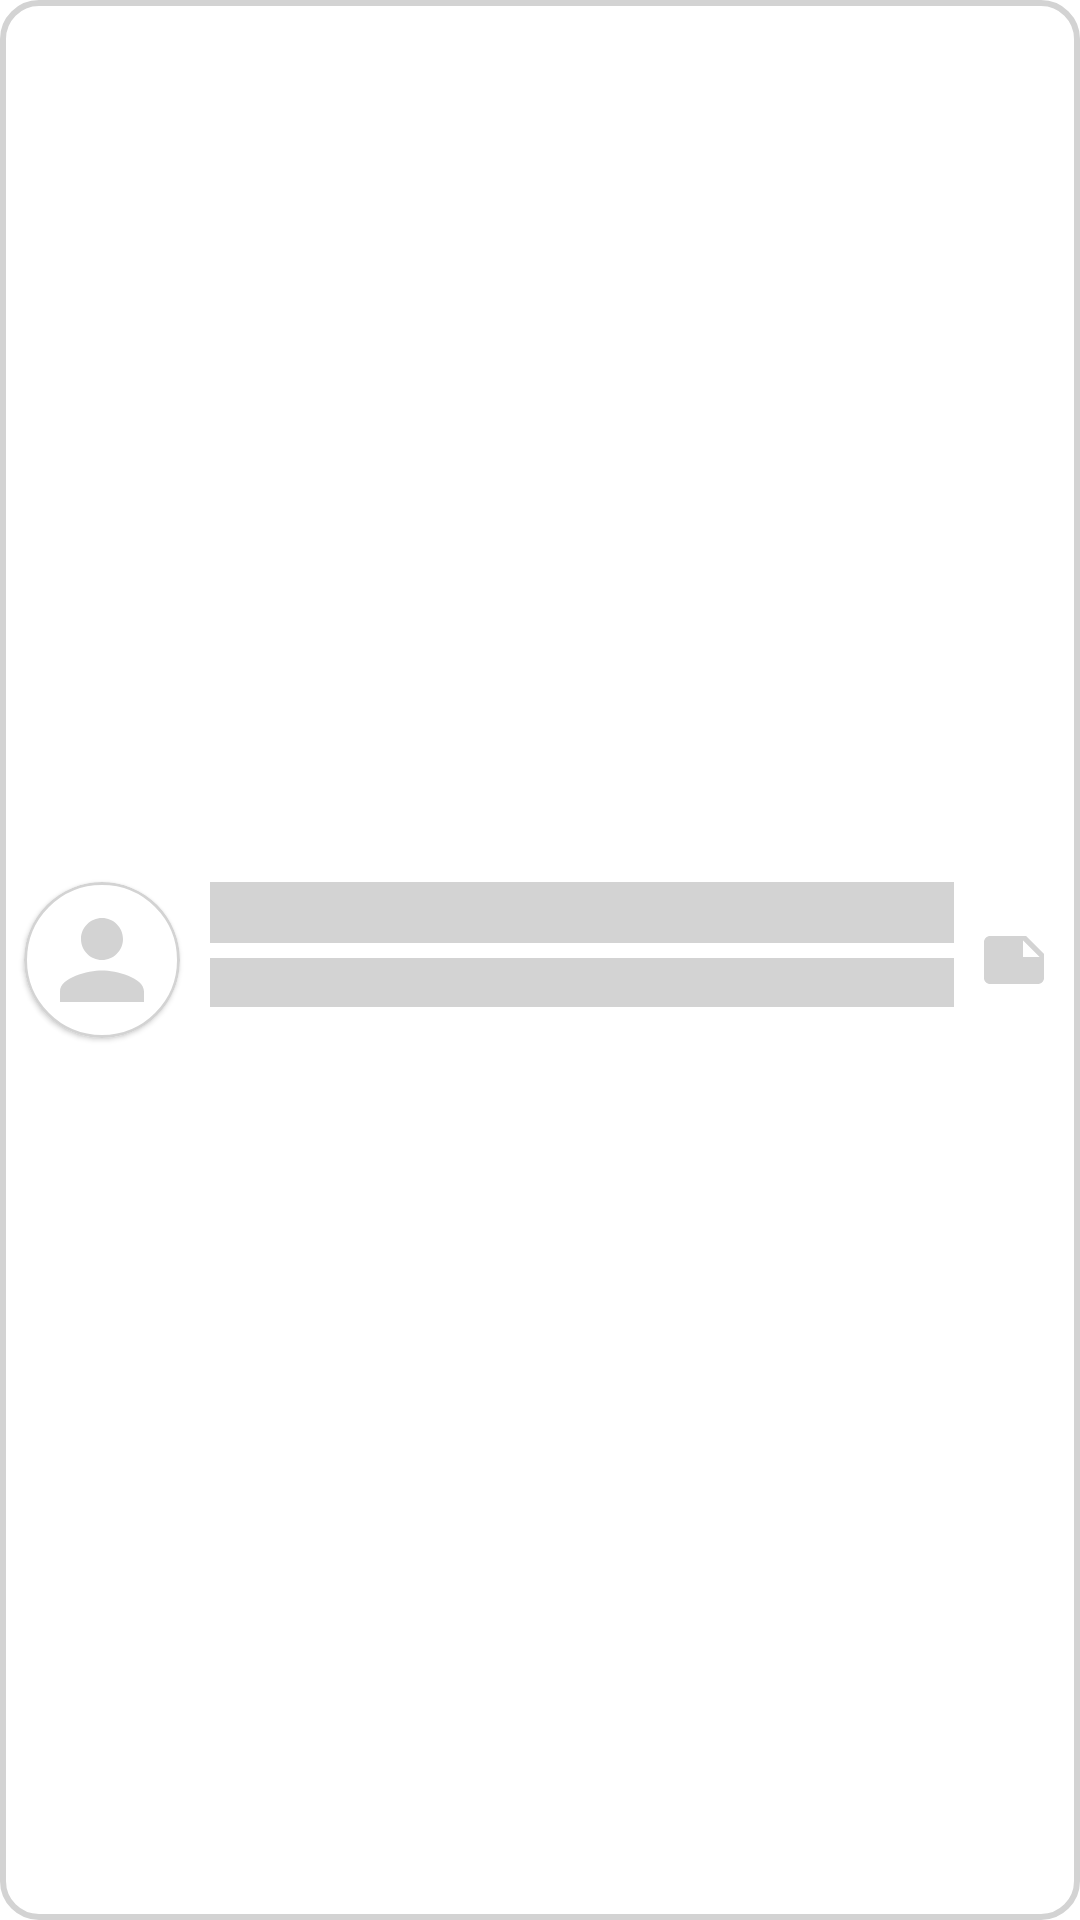

Where to tap for icons on this 1080px×1920px app screen, as (x=x, y=y):
note: (x=1014, y=960)
person: (x=102, y=960)
